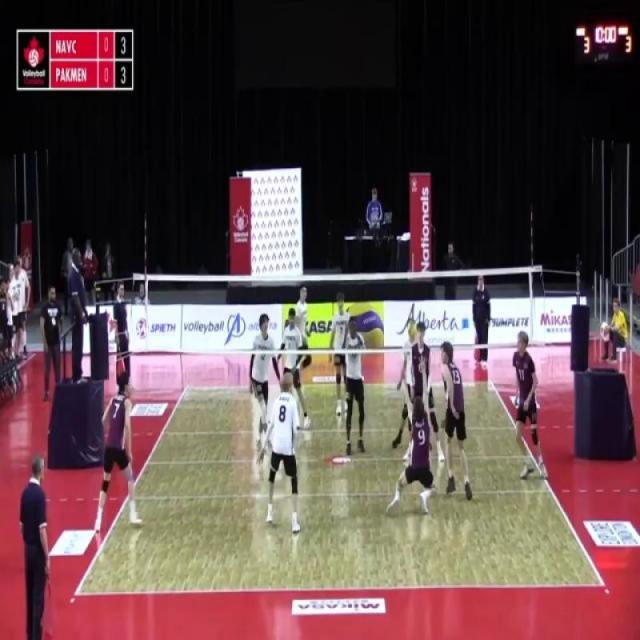volleyball: (346, 304, 384, 348), (407, 316, 418, 344)
